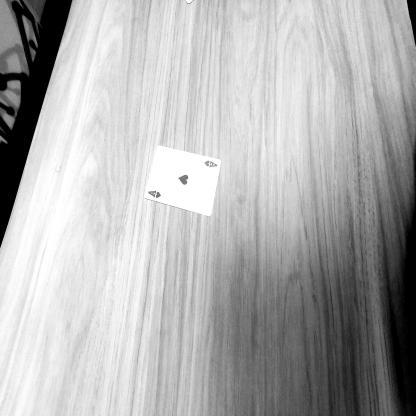AH: (203, 158, 220, 172), (147, 187, 163, 198)
